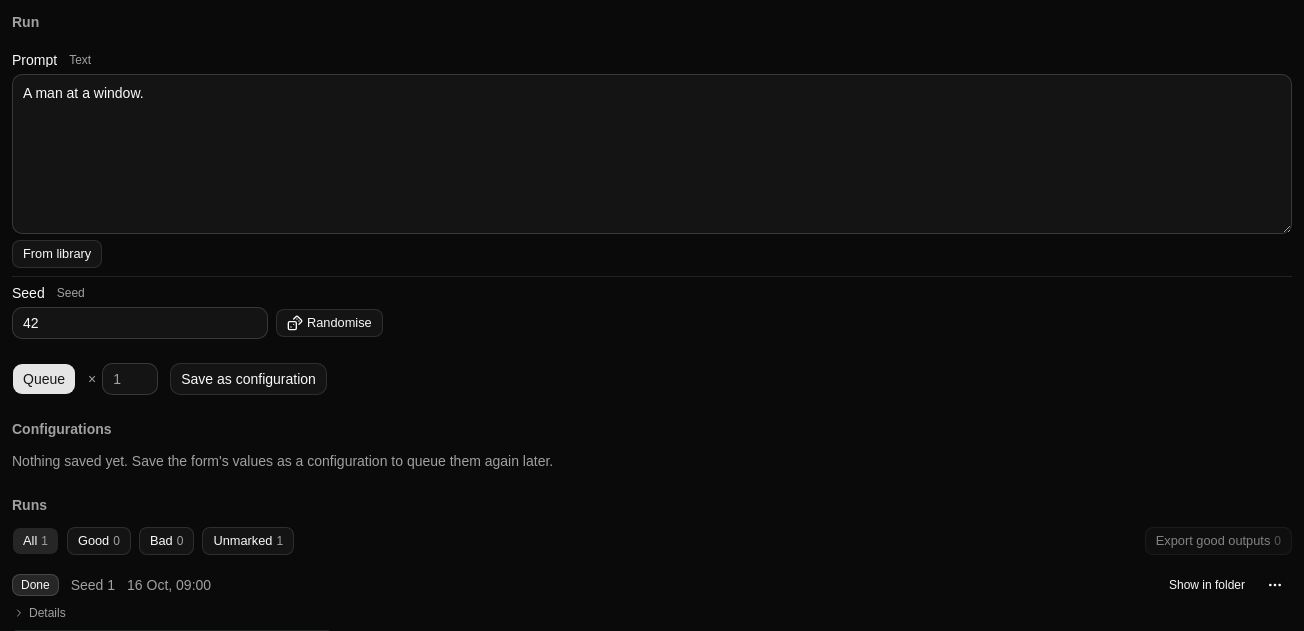
Scenario: WorkflowRunView › says when no output matches the filter
The image size is (1304, 631).
What coordinates should you click on to do the following:
click the button "Good 0"
I would click on:
 (99, 541)
Its box is [67,527,131,555].
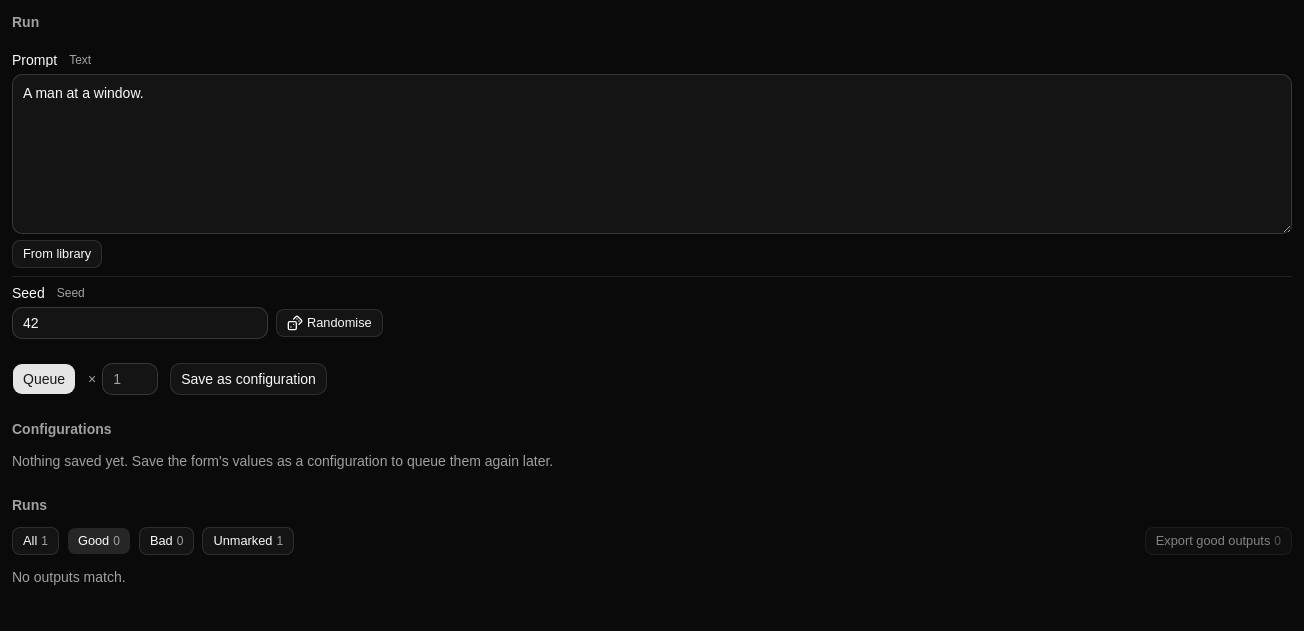
Result: the text "No outputs match." is shown at [12,569,126,585]
